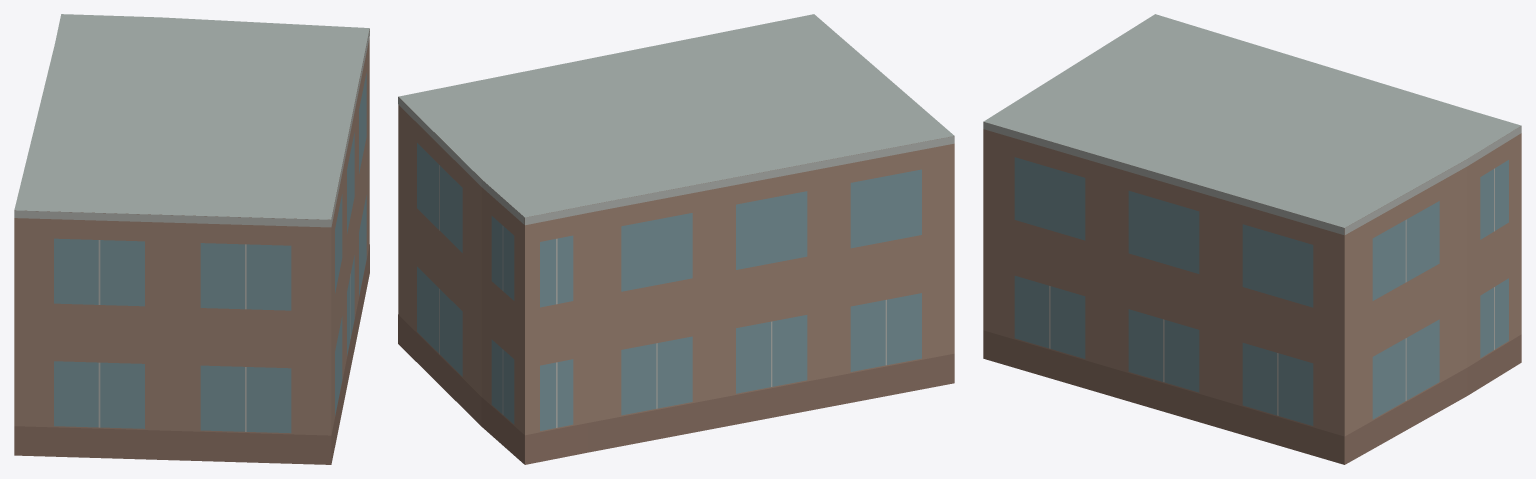
Rendered from survey-upis-32836964.glb.
The picture shows the model from 3 angles, left to right: view 1: azimuth 30°, elevation 25°; view 2: azimuth 150°, elevation 25°; view 3: azimuth 270°, elevation 25°; orthographic projection. The views are drawn at different scales.
Visible parts, largest first — view 1: survey-upis-32836964.tmp; view 2: survey-upis-32836964.tmp; view 3: survey-upis-32836964.tmp.
Boxes of the visible parts, bbox=[...] form: survey-upis-32836964.tmp: bbox=[14, 14, 369, 464]; survey-upis-32836964.tmp: bbox=[398, 14, 954, 464]; survey-upis-32836964.tmp: bbox=[983, 14, 1521, 464].
Size of the model in its own units: 15.11 by 7.8 by 16.07.
